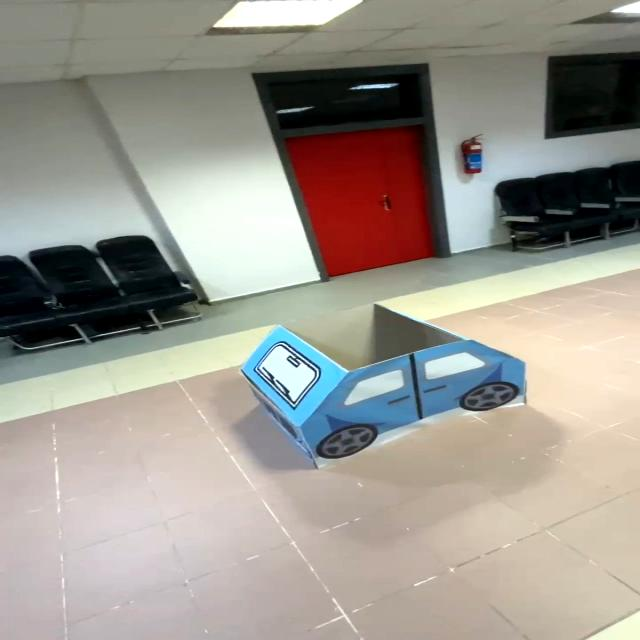blue_car: (208, 293, 559, 478)
